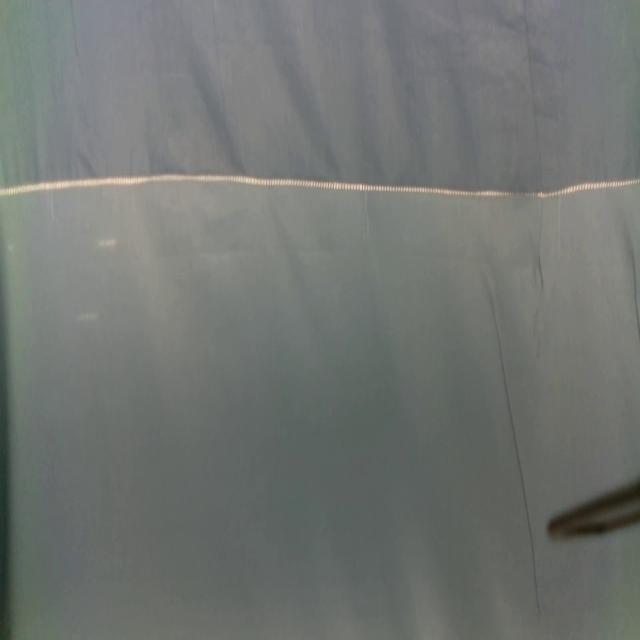crease: (492, 294, 540, 603), (522, 3, 544, 159), (629, 244, 640, 333), (535, 252, 547, 293)
